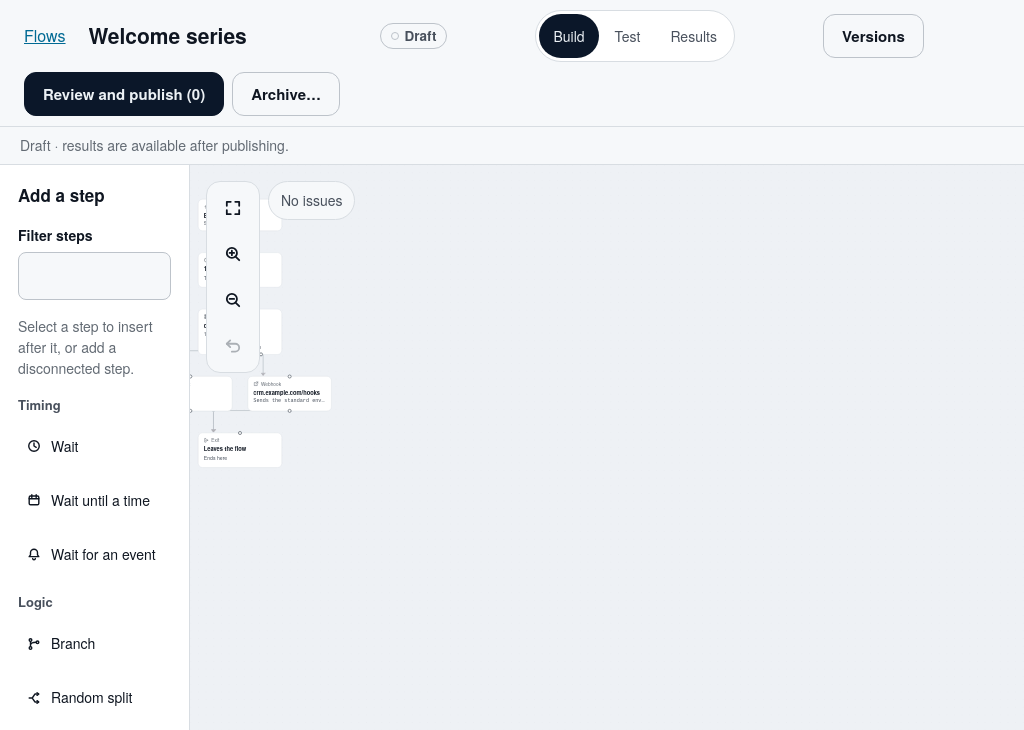
publish dialog › says plainly when there is no audience estimate
Click the button "Review and publish (0)": click(124, 94) [24,72,224,116]
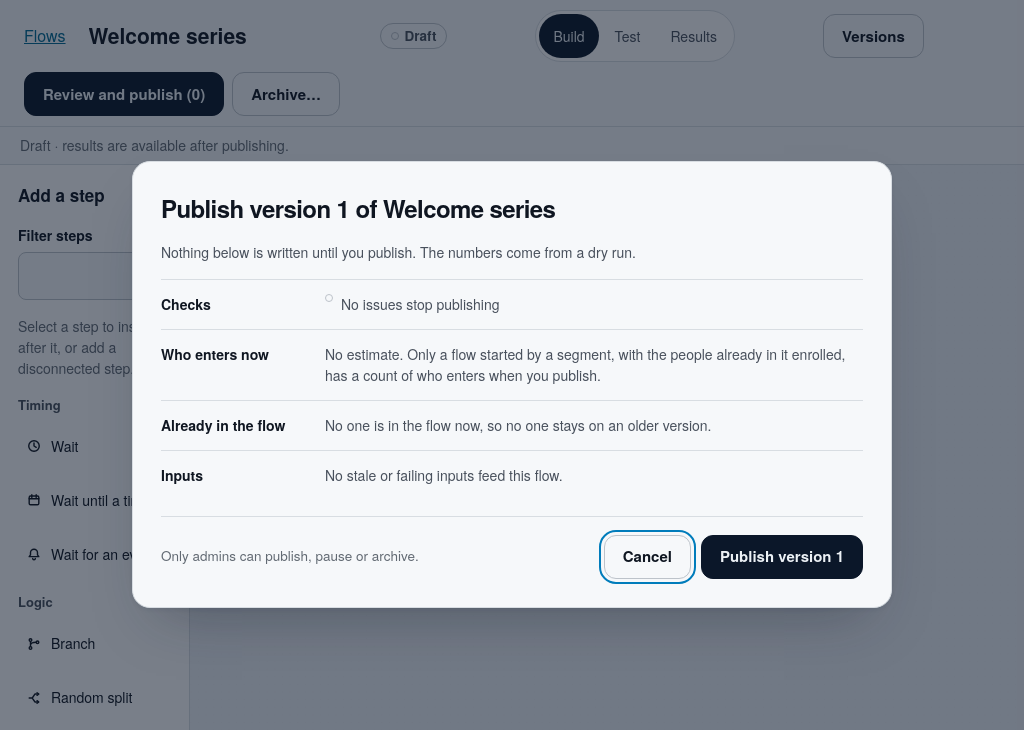
Now the text "No estimate." is shown, box [325,344,845,384]
